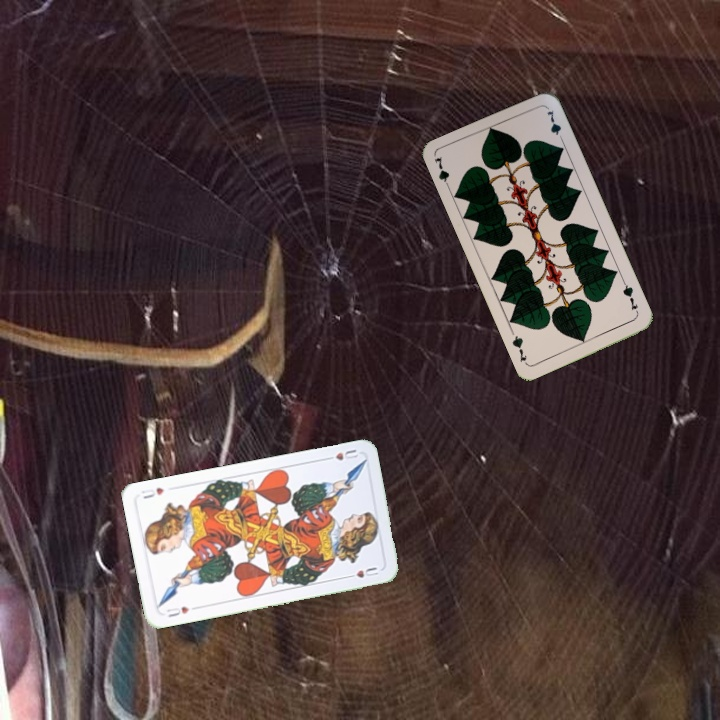G7: (430, 153, 453, 193), (619, 278, 641, 317)
HU: (321, 445, 360, 463), (163, 602, 192, 620)
